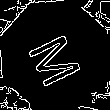M_NE: (23, 23, 87, 87)
